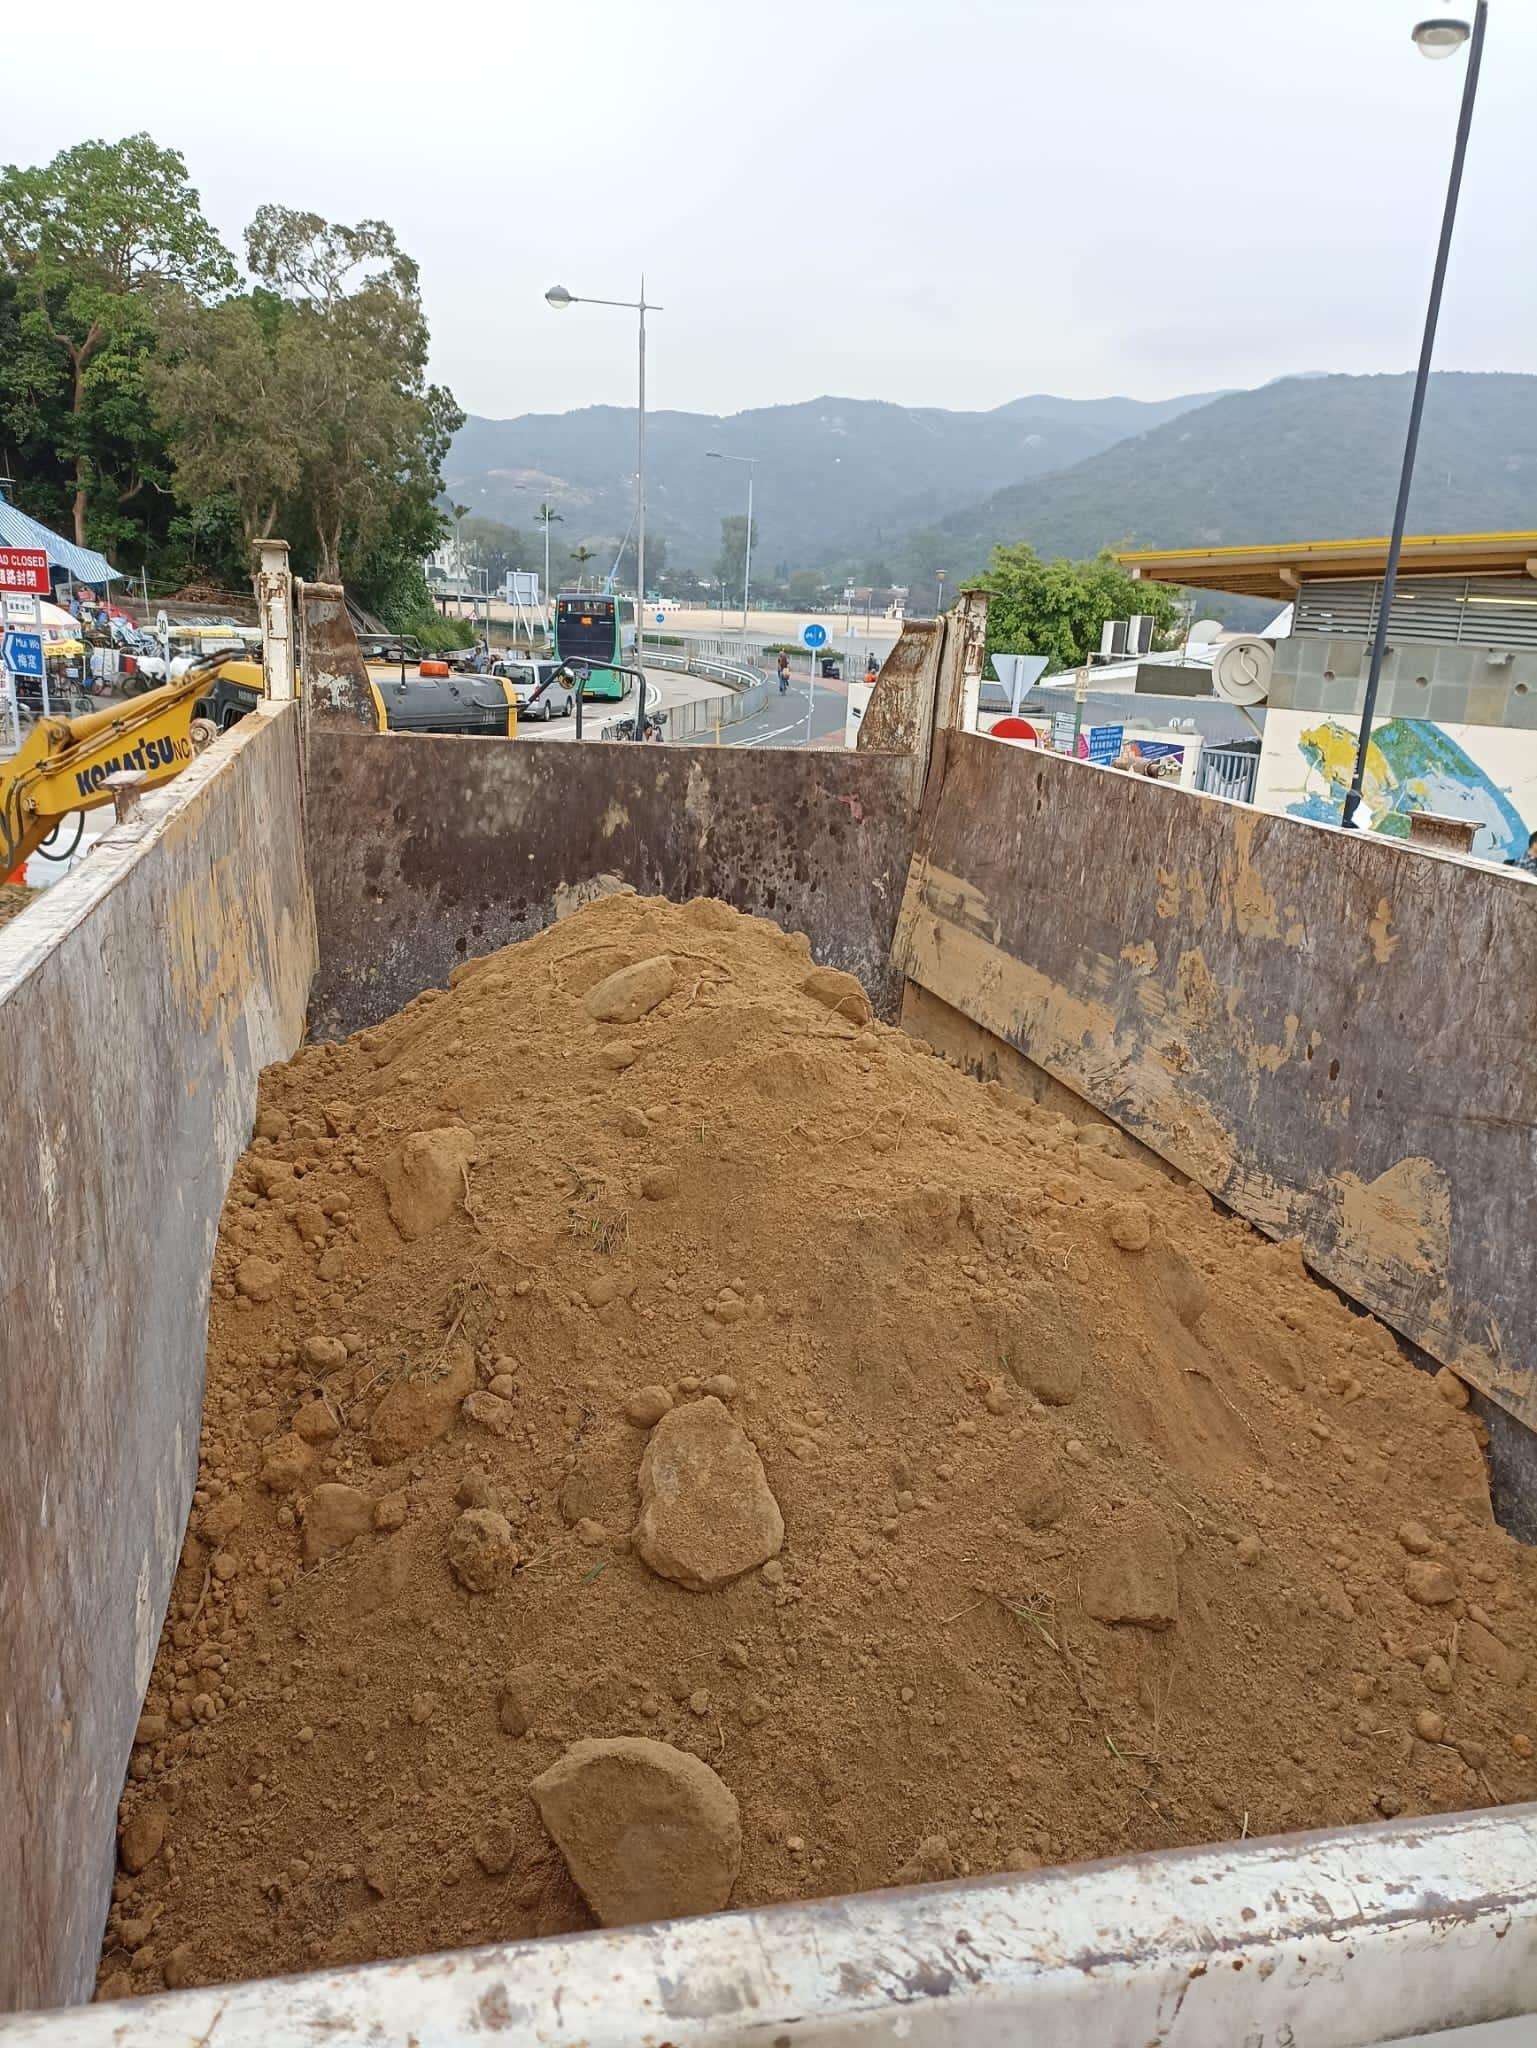dirt: (93, 885, 1534, 2002)
stone: (526, 1732, 744, 1928), (632, 1393, 784, 1591), (1076, 1512, 1179, 1631), (381, 1125, 473, 1239), (584, 952, 676, 1022), (444, 1505, 518, 1592), (300, 1480, 371, 1558)
